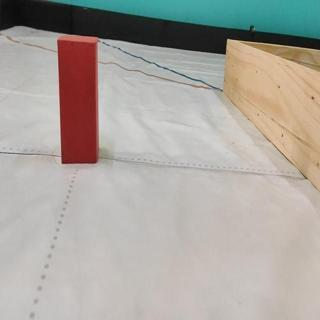redbox: (57, 33, 99, 165)
